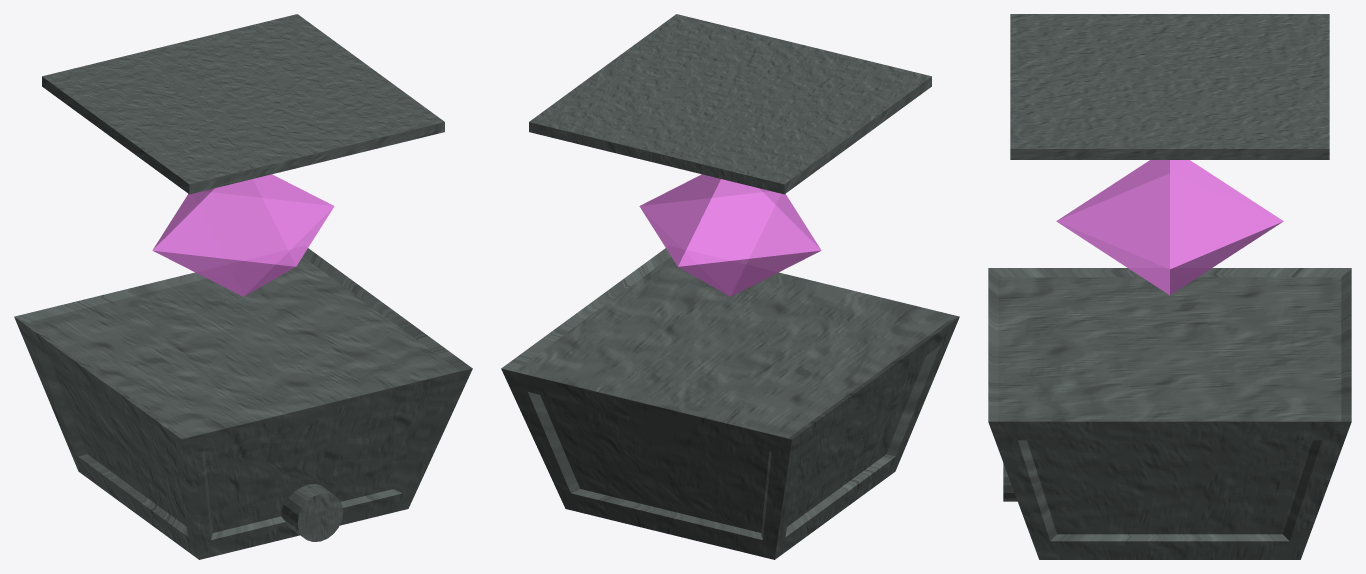
The model's file is Electrical_equipment_on2.fbx.
3 renders of one model, left to right at view 1: azimuth 30°, elevation 25°; view 2: azimuth 150°, elevation 25°; view 3: azimuth 270°, elevation 25°, orthographic. The views are drawn at different scales.
Visible parts, largest first — view 1: pCube3, pCone6, pCone3; view 2: pCube3, pCone6, pCone3; view 3: pCube3, pCone6, pCone3.
Part boxes in pixels (x1=…): pCube3: x1=14, y1=248, x2=472, y2=559; pCone6: x1=42, y1=14, x2=444, y2=194; pCone3: x1=152, y1=174, x2=334, y2=296; pCube3: x1=501, y1=248, x2=959, y2=559; pCone6: x1=529, y1=14, x2=931, y2=194; pCone3: x1=639, y1=174, x2=821, y2=296; pCube3: x1=988, y1=268, x2=1351, y2=559; pCone6: x1=1010, y1=14, x2=1329, y2=159; pCone3: x1=1056, y1=160, x2=1283, y2=295.
Bounding box in the file's own units: 12.18 × 15.64 × 12.18.
3 materials, 2 textured.
